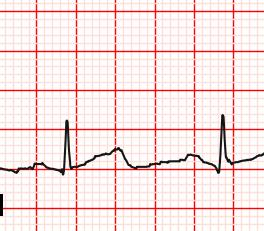LVH: (80, 141, 132, 170)
